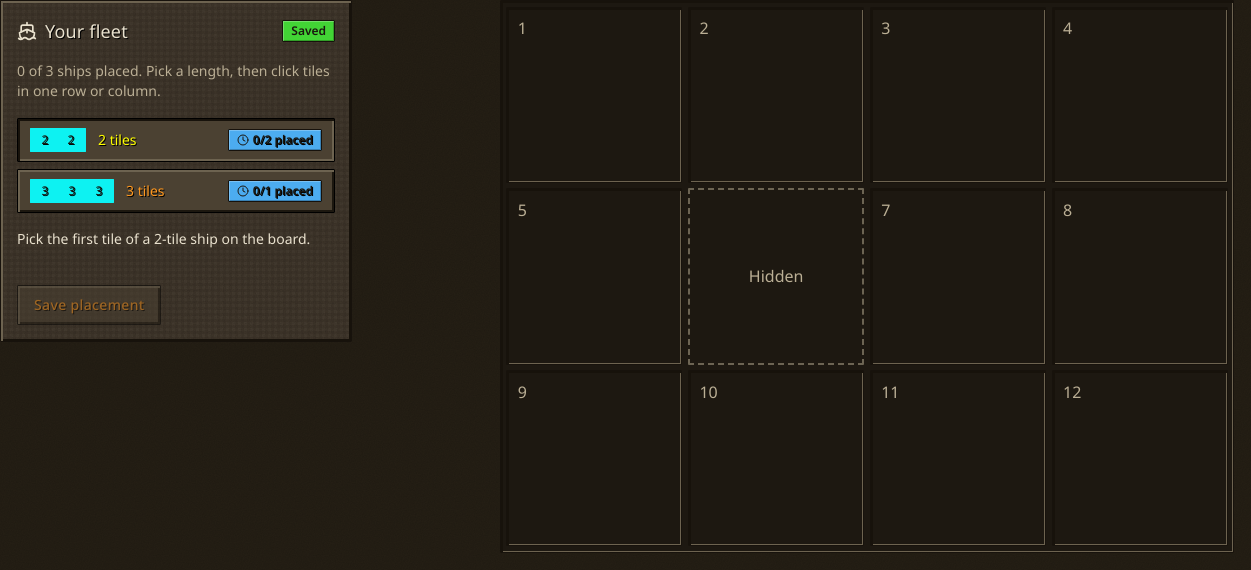
fleet palette › lets the user pick the length to place next
This screenshot has width=1251, height=570.
Click the radio button labelled "3 3 3 3 tiles 0/1 placed".
click(149, 190)  # box [17,169,335,213]
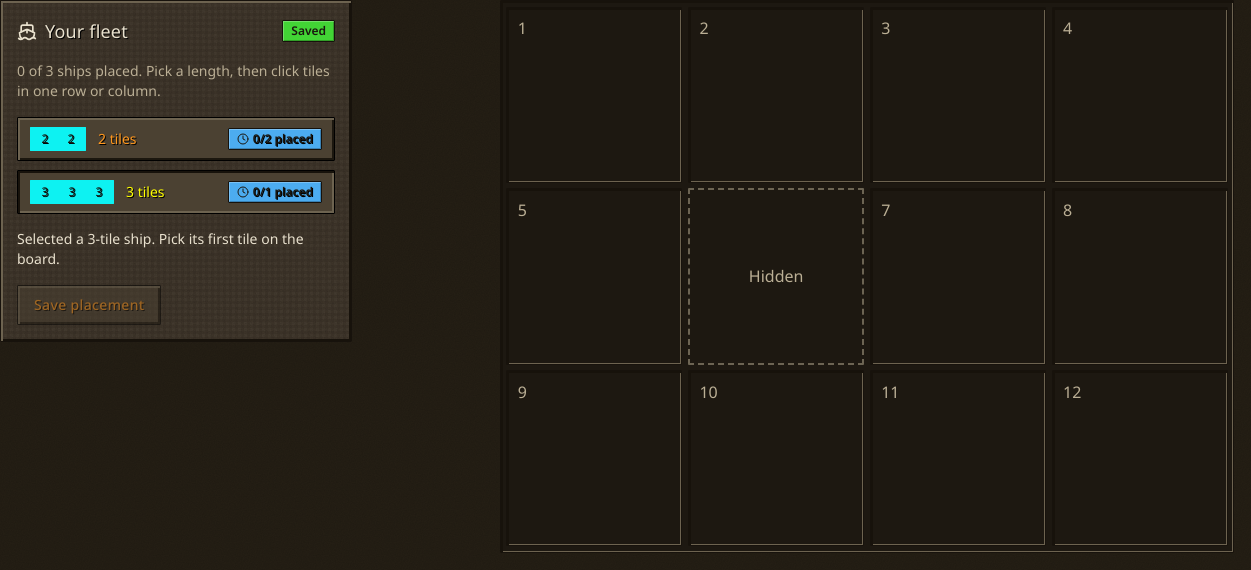
Click the cell named "Tile 1,".
click(594, 95)  # box [506,7,682,183]
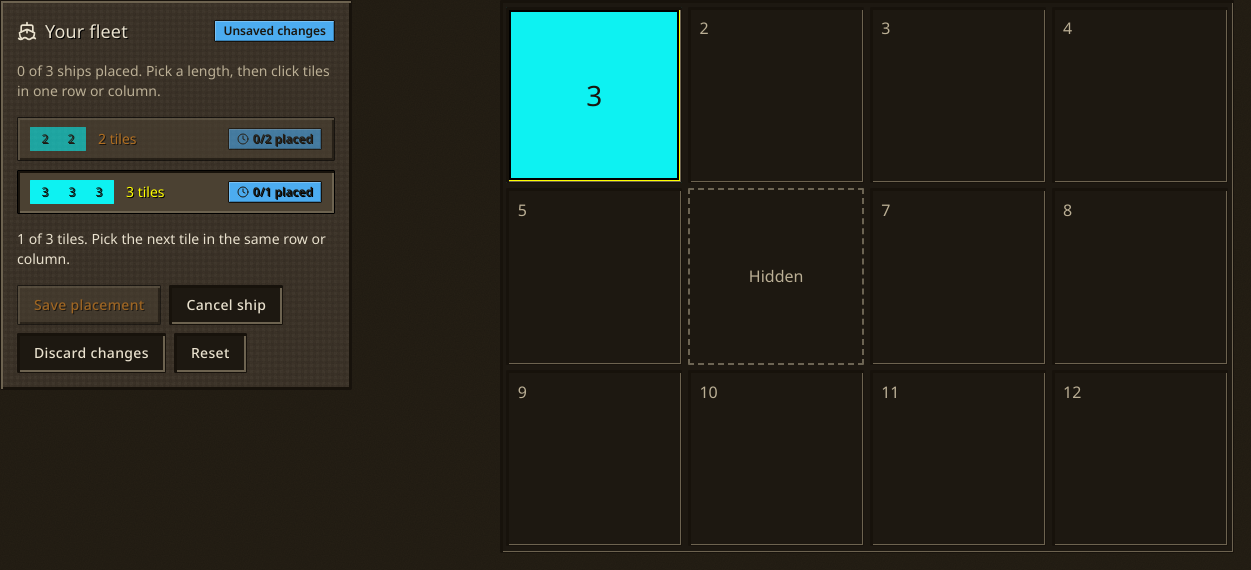
Click the cell named "Tile 2,".
click(776, 95)  # box [688,7,864,183]
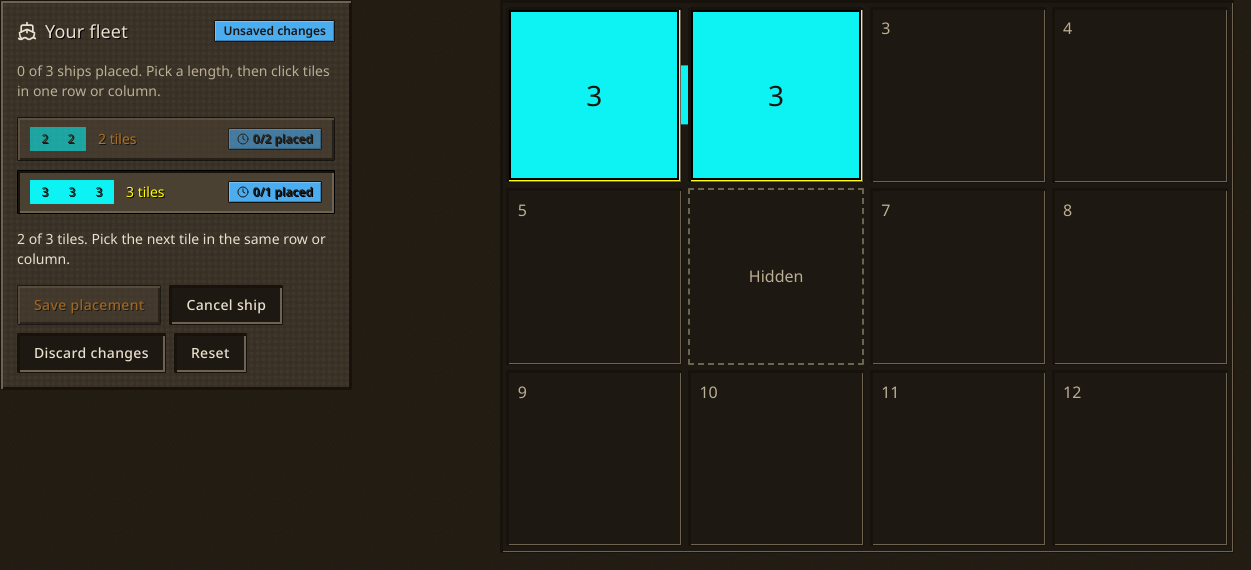
Click the cell named "Tile 3,".
click(958, 95)  # box [870,7,1046,183]
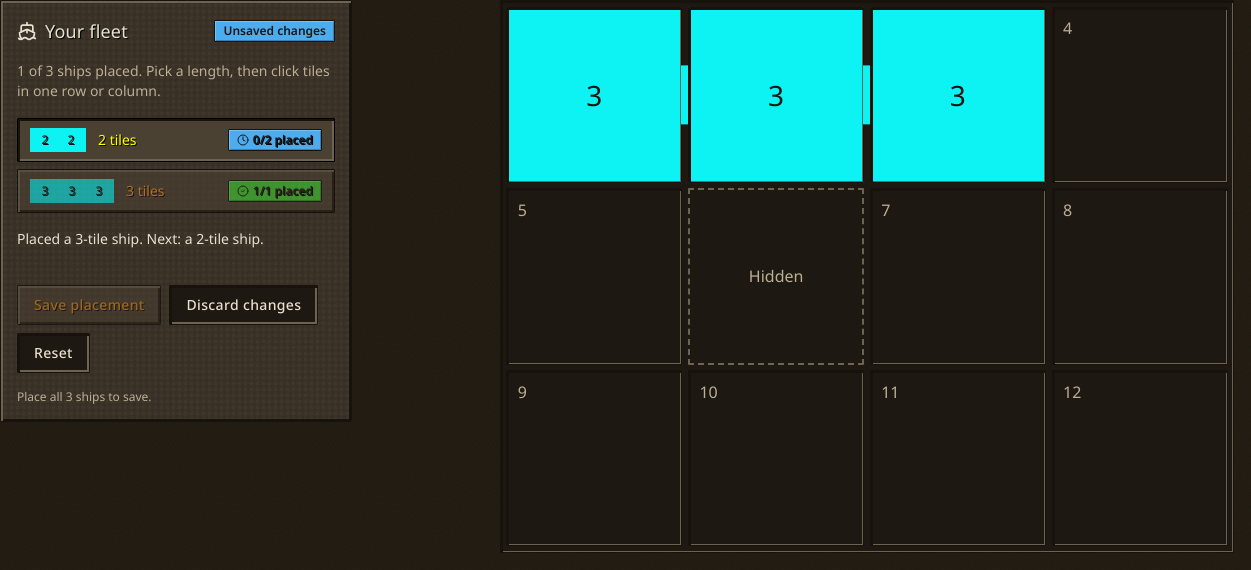
Expected: the cell named "Tile 3, ship of length 3" is shown, [870,7,1046,183]
